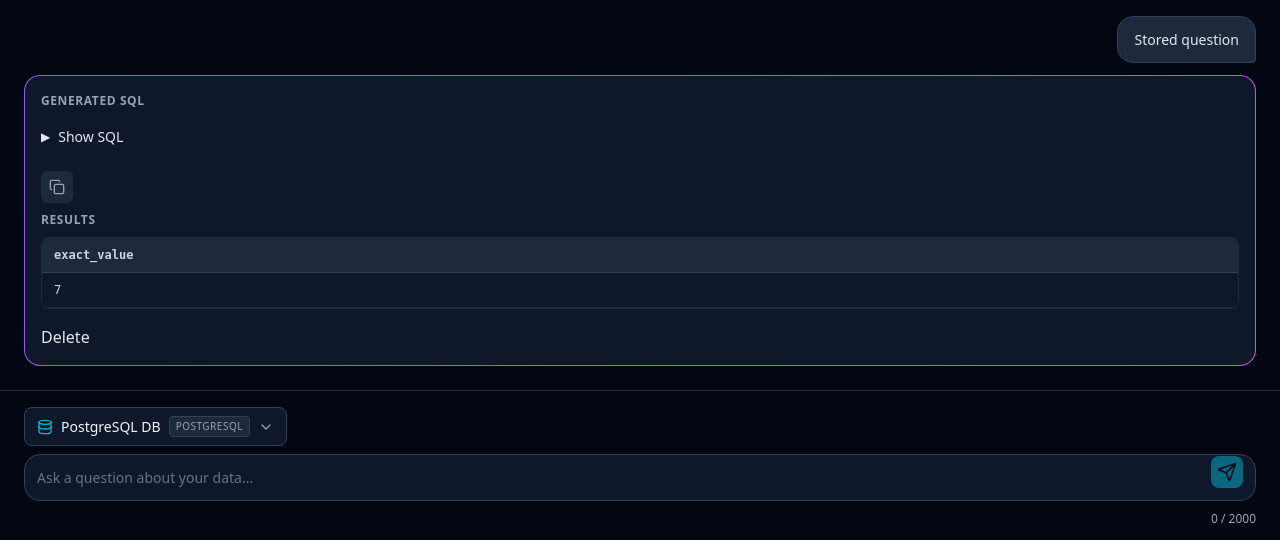
Test case: Workspace result deletion recovery › keeps an ambiguously committed delete removed after authoritative absence
The image size is (1280, 540).
Click the button with test id "action-delete-result" at (65, 337), box 41,325 -> 90,349
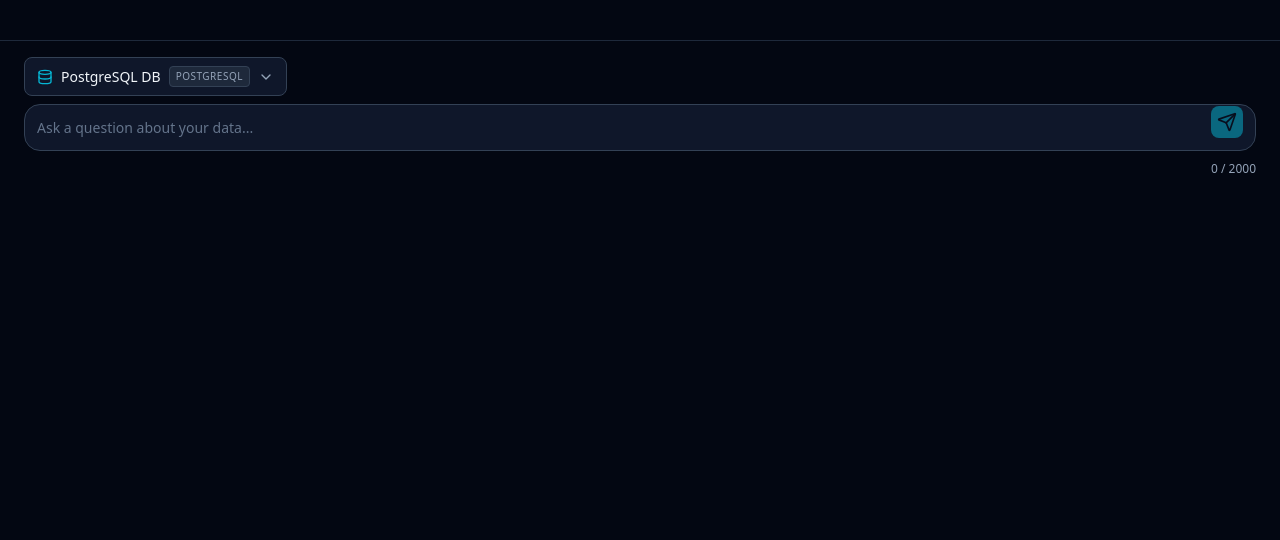
Expected: the text "Stored question" is gone
Expected: the button "Delete" is gone
